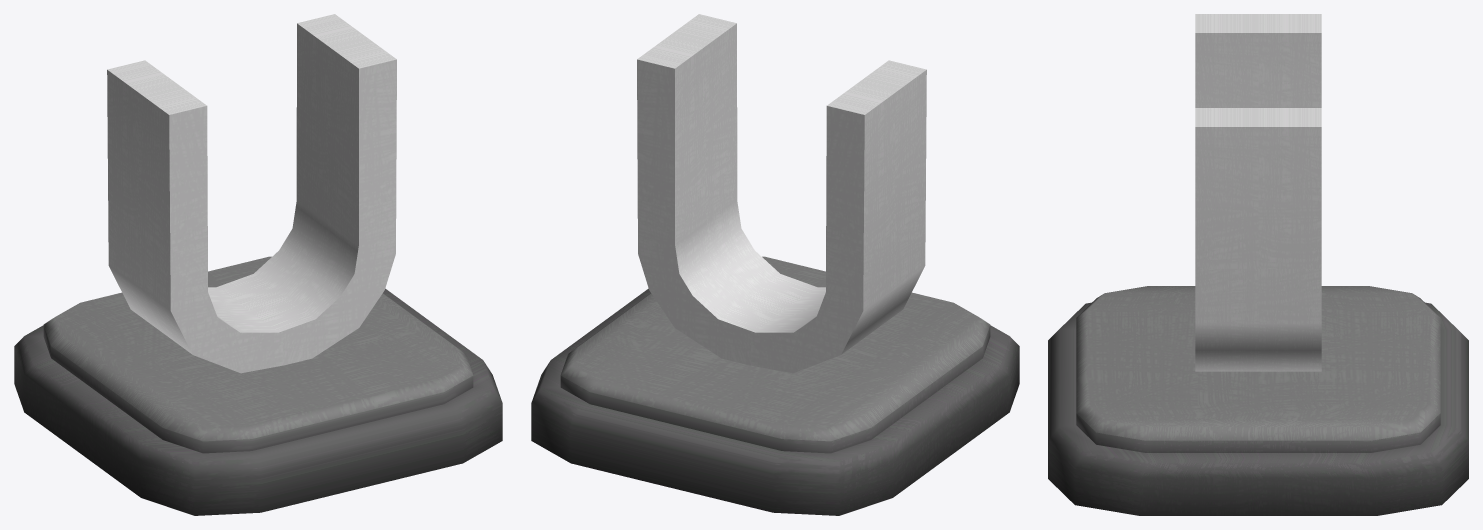
The model's file is Statue Letter U Hand.fbx.
3 renders of one model, left to right at view 1: azimuth 30°, elevation 25°; view 2: azimuth 150°, elevation 25°; view 3: azimuth 270°, elevation 25°, orthographic.
Visible parts, largest first — view 1: StatueBase (1), Letter; view 2: StatueBase (1), Letter; view 3: StatueBase (1), Letter.
Part boxes in pixels (<box>): StatueBase (1): <box>14,256,502,515</box>; Letter: <box>107,14,396,373</box>; StatueBase (1): <box>531,256,1019,515</box>; Letter: <box>637,14,926,373</box>; StatueBase (1): <box>1048,286,1468,515</box>; Letter: <box>1195,14,1321,371</box>.
Bounding box in the file's own units: 0.9118 × 0.8657 × 0.9299.
